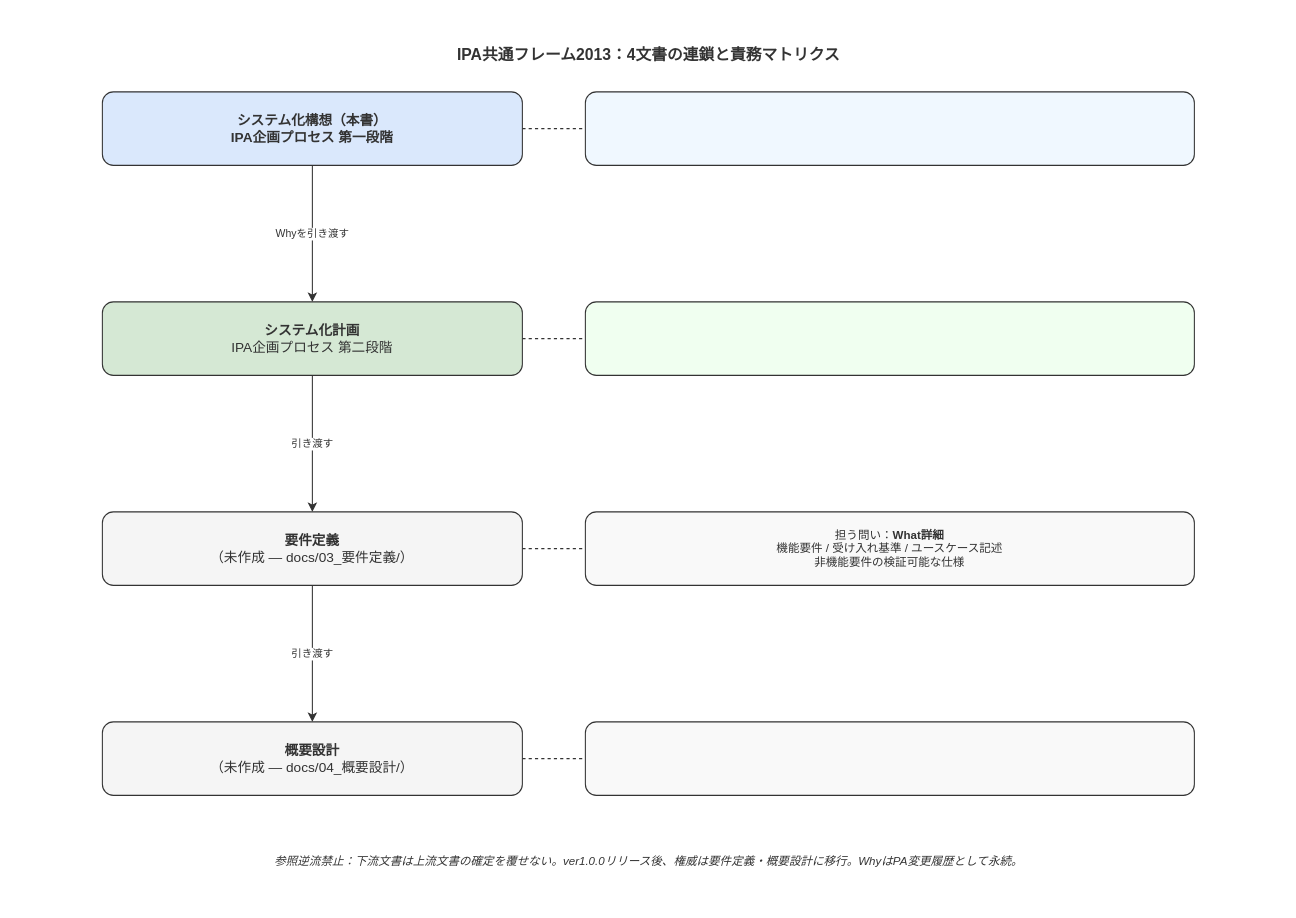
Some shapes in this 1296 by 918 pixel diagram are drawn without their labels. Each missing label, with the centre of its shape:
"担う問い： How骨格 画面構成 / API設計 / DBスキーマ骨格 コンポーネント分割 / シーケンス図" goes at point (889, 758).
"担う問い： What / How-Frame（する論） 対象範囲 / 機能スコープ / アーキテクチャ原則 技術スタック / データモデル / スケジュール" goes at point (889, 338).
"担う問い： Why（べき論） 解決すべき課題 / 価値命題 / 倫理スタンス プロダクトビジョン / 時代認識 / 推進方針" goes at point (889, 128).
